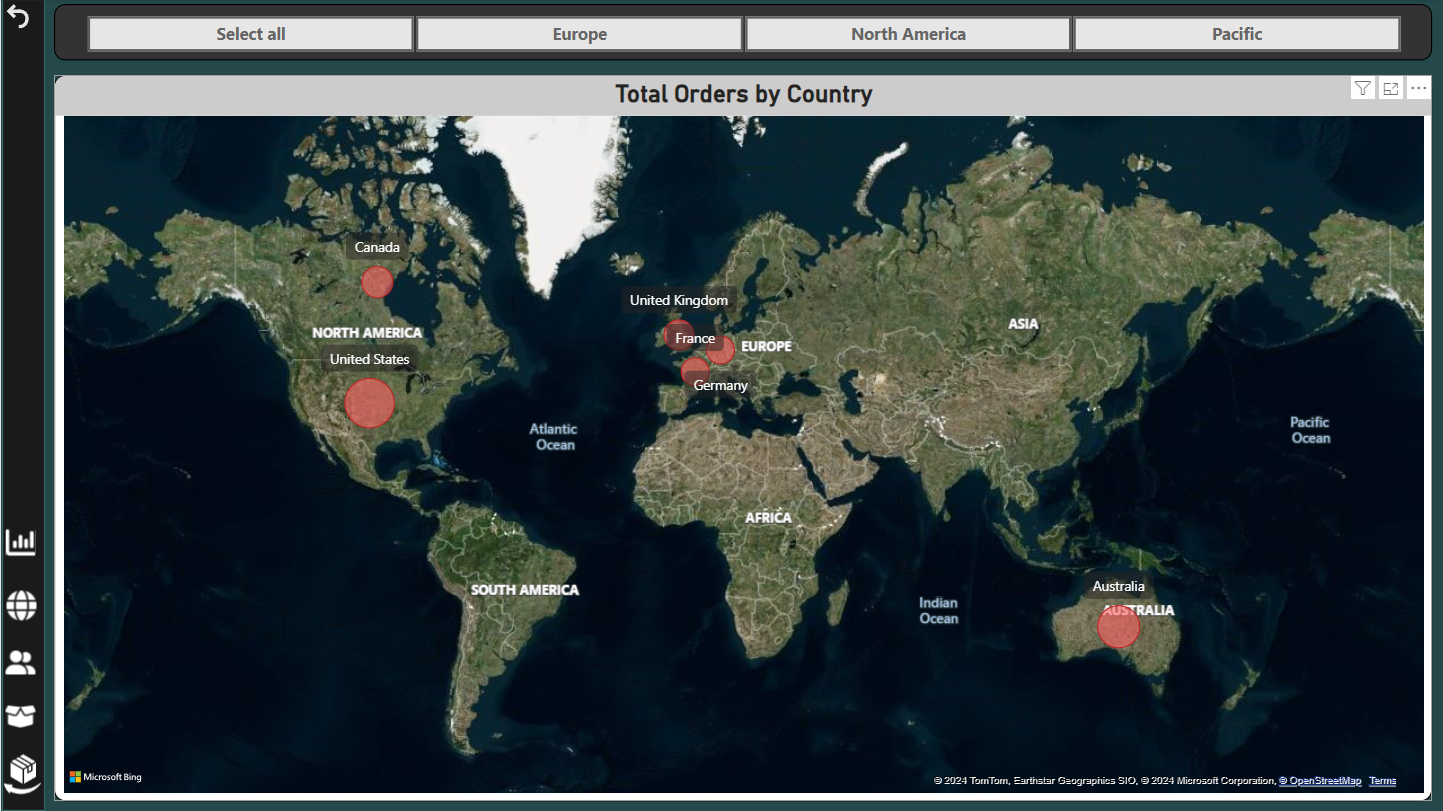

What the dashboard file says about the page in this screenshot:
{"tool":"powerbi","page":{"name":"Maps","canvas":[1280,720],"ordinal":1},"visuals":[{"type":"map","fields":{"Category":["Territory Lookup.Country"],"Size":["_Measures.Total Orders"]},"box":[47,67.4,1221.9,643.7],"z":0},{"type":"slicer","fields":{"Values":["Territory Lookup.Continent"]},"box":[47.3,4.5,1221.8,50],"z":1000},{"type":"shape","box":[0.9,0,38.2,720],"z":2000},{"type":"actionButton","box":[0,0,30.1,30.1],"z":3000},{"type":"actionButton","box":[0,464.6,37.2,34.6],"z":4000},{"type":"actionButton","box":[0.9,520.5,37.2,34.6],"z":5000},{"type":"actionButton","box":[0,571,37.2,34.6],"z":6000},{"type":"actionButton","box":[0,618.9,37.2,34.6],"z":7000},{"type":"actionButton","box":[0,663.3,38.1,47.9],"z":8000}]}

Visuals, with their boxes on the page's 1280x720 design canvas (x1, y1, x2, y2). These are canvas units, not pixel positions in the 1443x811 screenshot, which may show the page scaled, cropped or inside an application window:
map - Territory Lookup.Country x _Measures.Total Orders: 47:67:1269:711
slicer - Territory Lookup.Continent: 47:4:1269:54
shape: 1:0:39:720
actionButton: 0:0:30:30
actionButton: 0:465:37:499
actionButton: 1:520:38:555
actionButton: 0:571:37:606
actionButton: 0:619:37:654
actionButton: 0:663:38:711
